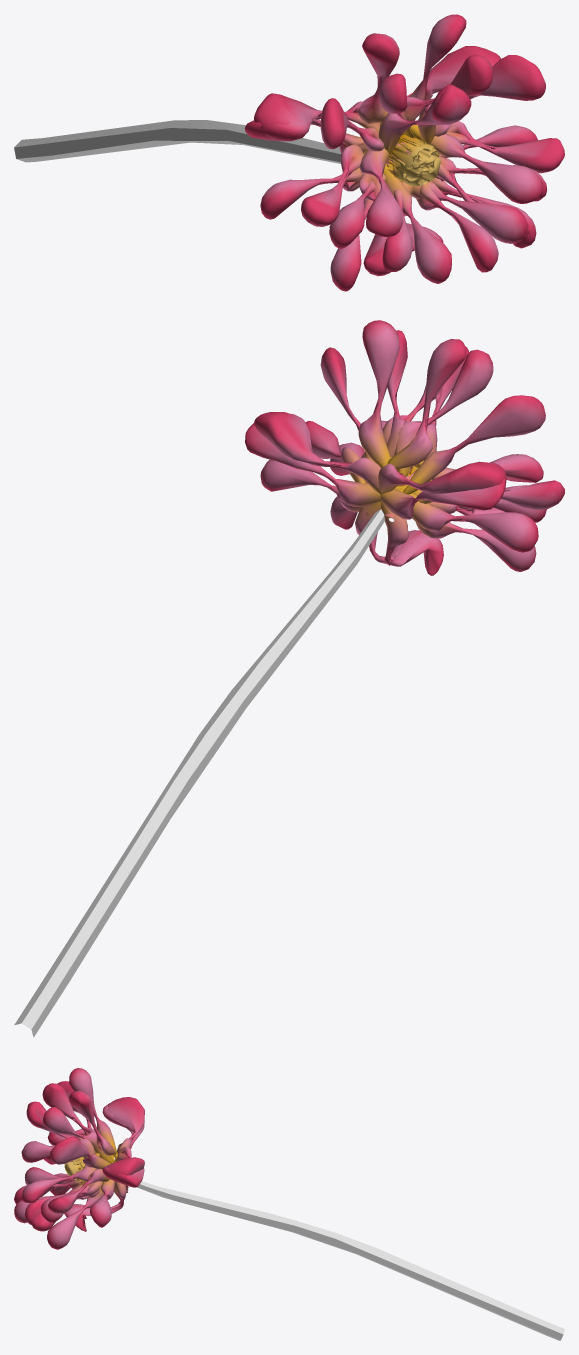
The picture shows the model from 3 angles, top to bottom: view 1: azimuth 30°, elevation 25°; view 2: azimuth 150°, elevation 25°; view 3: azimuth 270°, elevation 25°; orthographic projection. The views are drawn at different scales.
Parts seen in each view (by area): view 1: LOD 4_12354301473551943262_6ce4b76265bb7814c8655d2aa02cba96; view 2: LOD 4_12354301473551943262_6ce4b76265bb7814c8655d2aa02cba96; view 3: LOD 4_12354301473551943262_6ce4b76265bb7814c8655d2aa02cba96.
Part boxes in pixels (x1,y1,x2,y2): LOD 4_12354301473551943262_6ce4b76265bb7814c8655d2aa02cba96: [14, 14, 564, 291]; LOD 4_12354301473551943262_6ce4b76265bb7814c8655d2aa02cba96: [14, 320, 564, 1037]; LOD 4_12354301473551943262_6ce4b76265bb7814c8655d2aa02cba96: [14, 1068, 564, 1340].
Size of the model in its own units: 5.9 by 8.7 by 16.68.
